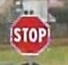stop: (10, 12, 49, 55)
